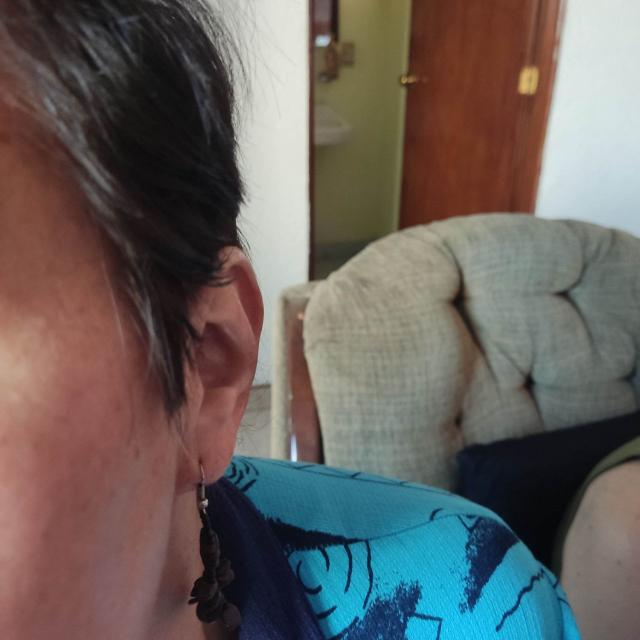ear: (178, 249, 265, 487)
